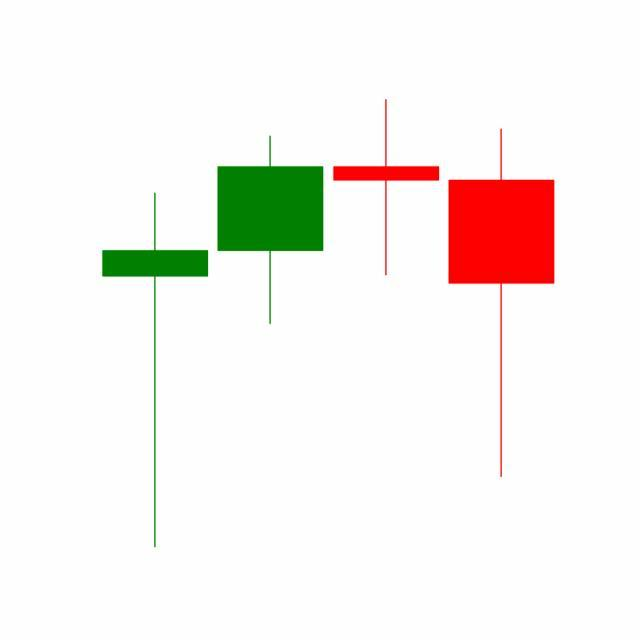Spinning Top: (329, 98, 445, 278)
